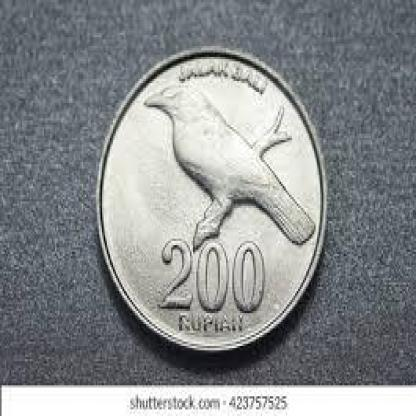coin_200_e2003: (93, 43, 330, 357)
